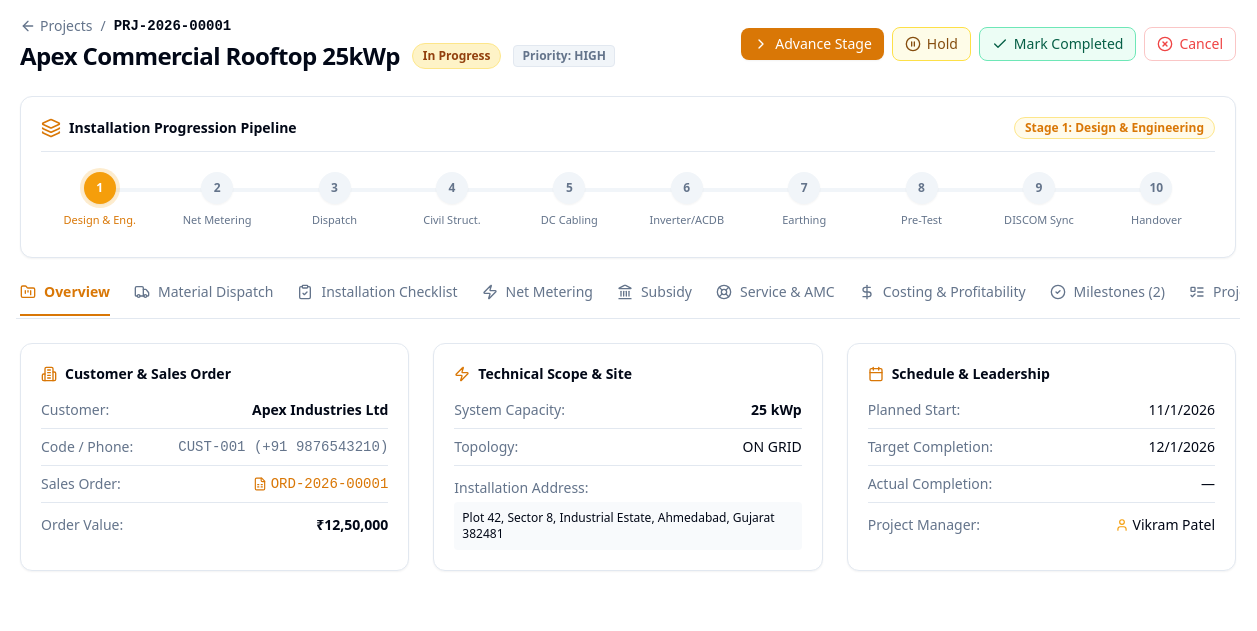
Scenario: Phase 6A Frontend Operational Pages › displays milestones, blocker alerts, and sign-offs when Milestones tab is selected
The image size is (1257, 631).
Check: the text "PRJ-2026-00001" is shown, box [114,16,231,36]
# Switch to Milestones tab
Click the button "Milestones (2)": (1107, 298) [1050,282,1165,316]
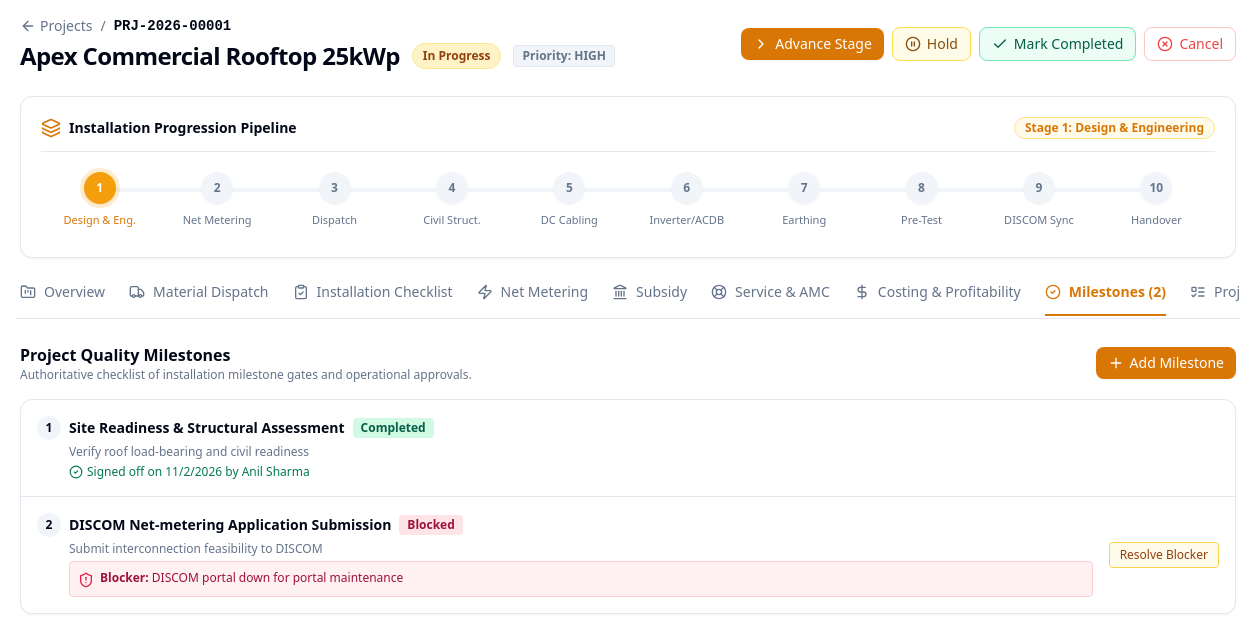
Check: the heading "Site Readiness & Structural Assessment" is shown, box [69,418,345,438]
Check: the text "Signed off on 11/2/2026 by Anil Sharma" is shown, box [87,464,310,480]
Check: the heading "DISCOM Net-metering Application Submission" is shown, box [69,514,391,534]
